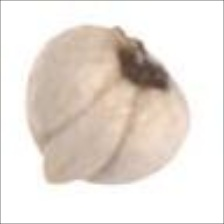L5: (36, 78, 139, 187), (112, 24, 172, 94)
L6: (21, 22, 194, 189)
